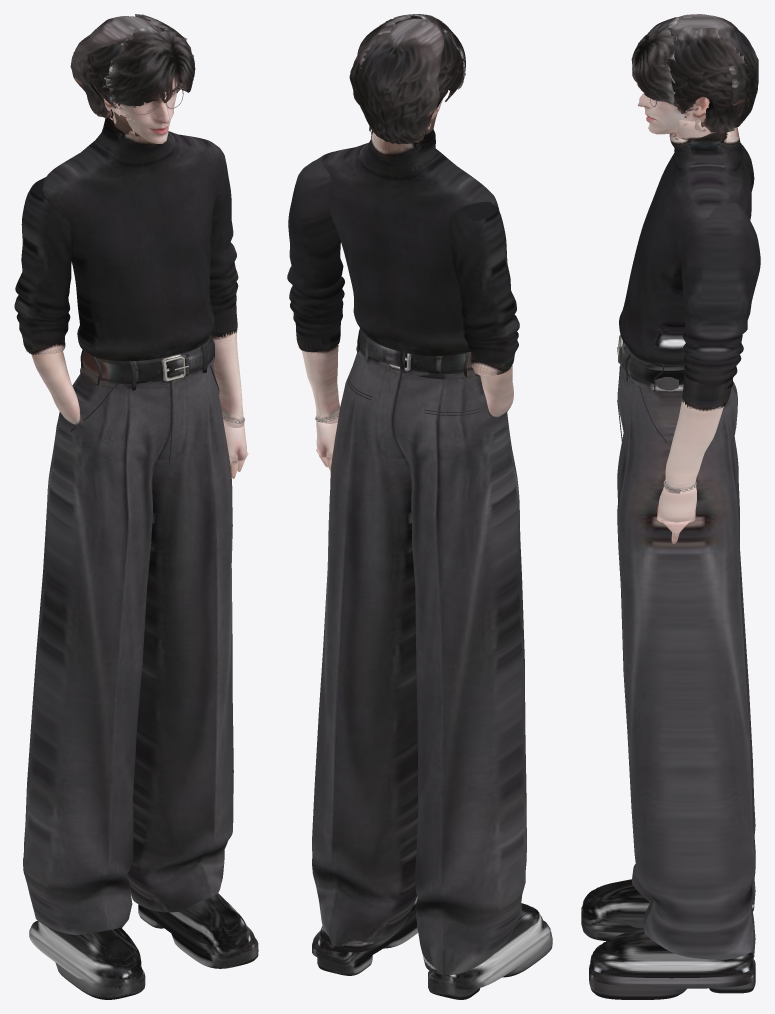
Rendered from passer-08.glb.
The picture shows the model from 3 angles, left to right: view 1: azimuth 30°, elevation 25°; view 2: azimuth 150°, elevation 25°; view 3: azimuth 270°, elevation 25°; orthographic projection. The views are drawn at different scales.
Parts seen in each view (by area): view 1: 阔腿长裤 · 连续裆弧和双裤管, 针织衣身和收束下摆, 右袖 · 曲肘堆褶, 额前与鬓发 · 原画边界体积, 右鞋 · 皮面与鞋舌, 左袖 · 曲肘堆褶, 左鞋 · 皮面与鞋舌, 后脑及后发 · 闭合体积, 左前臂 · 垂腕, 光面皮带, 右前臂 · 手入斜袋, 肖像头面 · 连续眼眶唇环 (+9 smaller); view 2: 阔腿长裤 · 连续裆弧和双裤管, 针织衣身和收束下摆, 后脑及后发 · 闭合体积, 右袖 · 曲肘堆褶, 左袖 · 曲肘堆褶, 翻折高领 · 纵罗纹, 左前臂 · 垂腕, 光面皮带, 右鞋 · 皮面与鞋舌, 右鞋 · 贯通鞋沿, 右侧鬓发至后枕 · 轮廓与耳部开口, 右前臂 · 手入斜袋 (+6 smaller); view 3: 阔腿长裤 · 连续裆弧和双裤管, 针织衣身和收束下摆, 左袖 · 曲肘堆褶, 左侧鬓发至后枕 · 轮廓与耳部开口, 左鞋 · 皮面与鞋舌, 左前臂 · 垂腕, 后脑及后发 · 闭合体积, 右鞋 · 皮面与鞋舌, 翻折高领 · 纵罗纹, 左鞋 · 贯通鞋沿, 额前与鬓发 · 原画边界体积, 左袖 · 罗纹收口 (+7 smaller).
Boxes of the visible parts, bbox=[...] form: 阔腿长裤 · 连续裆弧和双裤管: bbox=[23, 363, 233, 935]; 针织衣身和收束下摆: bbox=[42, 131, 223, 361]; 右袖 · 曲肘堆褶: bbox=[14, 177, 73, 345]; 额前与鬓发 · 原画边界体积: bbox=[103, 26, 194, 116]; 右鞋 · 皮面与鞋舌: bbox=[36, 921, 141, 979]; 左袖 · 曲肘堆褶: bbox=[204, 139, 238, 311]; 左鞋 · 皮面与鞋舌: bbox=[153, 893, 250, 949]; 后脑及后发 · 闭合体积: bbox=[70, 16, 161, 118]; 左前臂 · 垂腕: bbox=[211, 331, 244, 427]; 光面皮带: bbox=[82, 336, 213, 383]; 右前臂 · 手入斜袋: bbox=[31, 351, 84, 429]; 肖像头面 · 连续眼眶唇环: bbox=[115, 76, 179, 143]; 阔腿长裤 · 连续裆弧和双裤管: bbox=[312, 353, 526, 974]; 针织衣身和收束下摆: bbox=[317, 142, 498, 356]; 后脑及后发 · 闭合体积: bbox=[349, 18, 443, 144]; 右袖 · 曲肘堆褶: bbox=[449, 202, 519, 364]; 左袖 · 曲肘堆褶: bbox=[287, 159, 344, 337]; 翻折高领 · 纵罗纹: bbox=[363, 129, 436, 176]; 左前臂 · 垂腕: bbox=[301, 344, 339, 423]; 光面皮带: bbox=[360, 331, 472, 373]; 右鞋 · 皮面与鞋舌: bbox=[445, 903, 544, 977]; 右鞋 · 贯通鞋沿: bbox=[434, 920, 550, 989]; 右侧鬓发至后枕 · 轮廓与耳部开口: bbox=[420, 21, 463, 133]; 右前臂 · 手入斜袋: bbox=[480, 365, 513, 417]; 阔腿长裤 · 连续裆弧和双裤管: bbox=[617, 363, 755, 959]; 针织衣身和收束下摆: bbox=[619, 153, 751, 366]; 左袖 · 曲肘堆褶: bbox=[681, 202, 760, 389]; 左侧鬓发至后枕 · 轮廓与耳部开口: bbox=[665, 26, 749, 133]; 左鞋 · 皮面与鞋舌: bbox=[590, 929, 753, 978]; 左前臂 · 垂腕: bbox=[663, 399, 723, 493]; 后脑及后发 · 闭合体积: bbox=[668, 14, 758, 127]; 右鞋 · 皮面与鞋舌: bbox=[582, 879, 649, 928]; 翻折高领 · 纵罗纹: bbox=[669, 127, 742, 166]; 左鞋 · 贯通鞋沿: bbox=[589, 960, 755, 988]; 额前与鬓发 · 原画边界体积: bbox=[632, 17, 679, 106]; 左袖 · 罗纹收口: bbox=[682, 373, 732, 411].
Bounding box in the file's own units: 0.4351 × 1.77 × 0.3064.
Materials: 141 (130 with a texture image).
